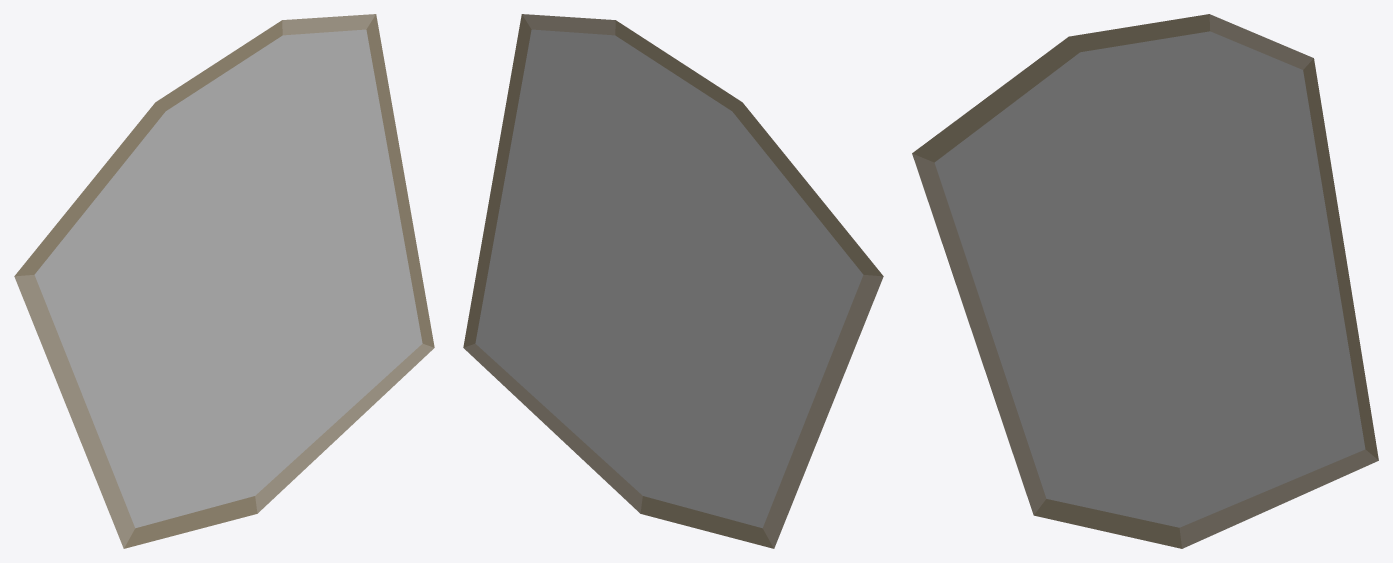
Rendered from treasureQuestPuzzlePiecesC.glb.
3 views of the same model, side by side, from view 1: azimuth 30°, elevation 25°; view 2: azimuth 150°, elevation 25°; view 3: azimuth 330°, elevation 25° (orthographic). The views are drawn at different scales.
Visible parts, largest first — view 1: treasureQuestPuzzlePiecesC; view 2: treasureQuestPuzzlePiecesC; view 3: treasureQuestPuzzlePiecesC.
Boxes of the visible parts, box(x1,y1,x2,y2) form: treasureQuestPuzzlePiecesC: box(14, 14, 434, 548); treasureQuestPuzzlePiecesC: box(463, 14, 883, 548); treasureQuestPuzzlePiecesC: box(912, 14, 1378, 548).
Bounding box in the file's own units: 0.4514 × 0.5029 × 0.
